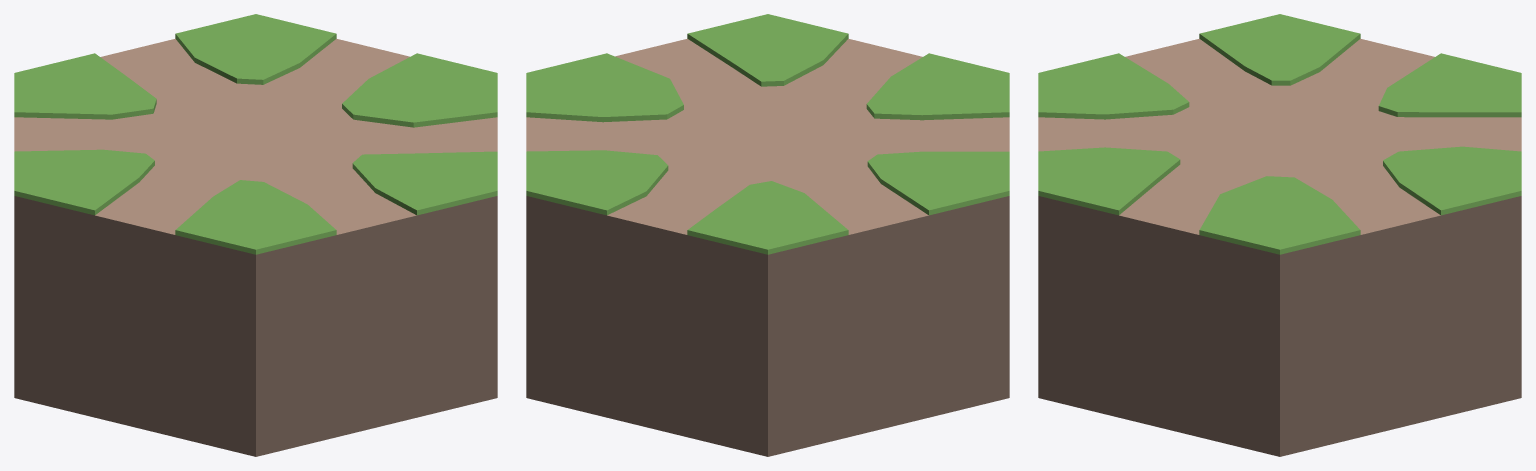
Rendered from tile_cross.fbx.
3 renders of one model, left to right at view 1: azimuth 30°, elevation 25°; view 2: azimuth 150°, elevation 25°; view 3: azimuth 270°, elevation 25°, orthographic.
Visible parts, largest first — view 1: Tile_Road5; view 2: Tile_Road5; view 3: Tile_Road5.
Boxes of the visible parts, x1,y1,x2,y2 form: Tile_Road5: [14, 14, 497, 456]; Tile_Road5: [526, 14, 1009, 456]; Tile_Road5: [1038, 14, 1521, 456].
Bounding box in the file's own units: 2 × 0.82 × 1.73.
